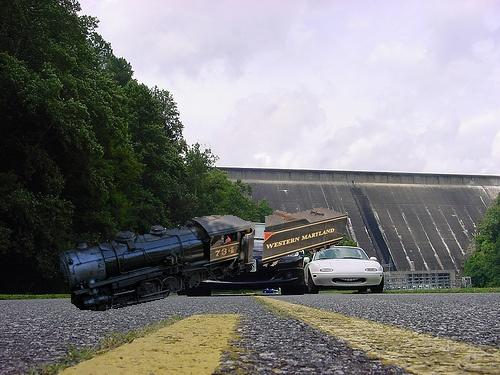tampered: (61, 208, 347, 311)
